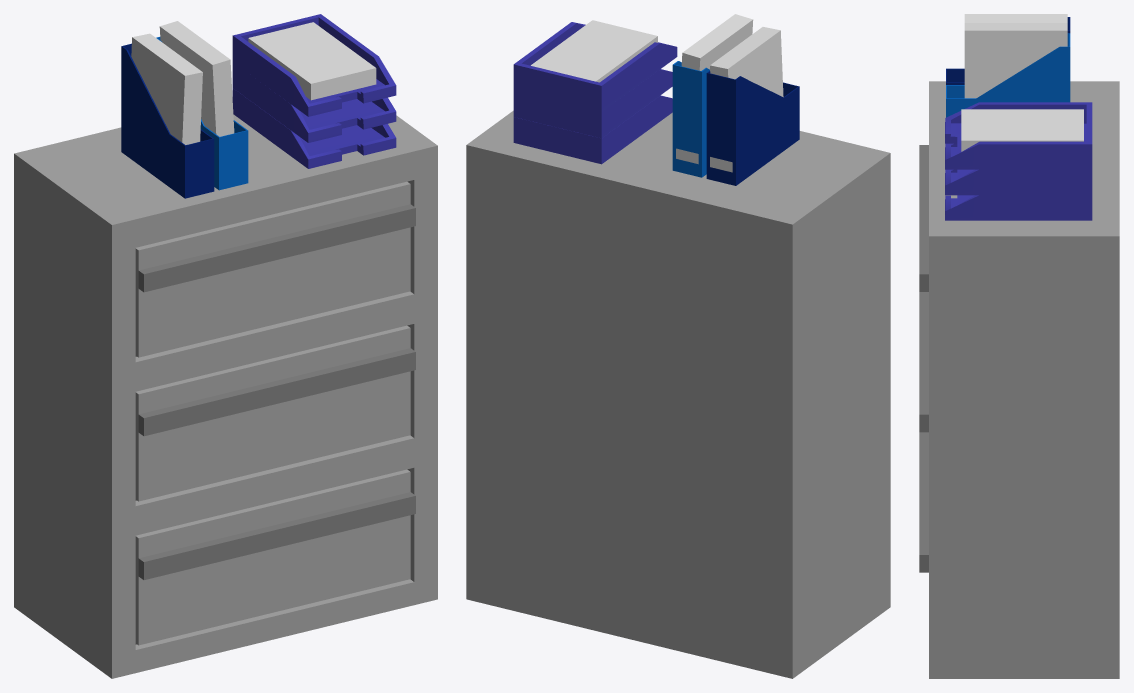
The model's file is etagere 2.fbx.
3 views of the same model, side by side, from view 1: azimuth 30°, elevation 25°; view 2: azimuth 150°, elevation 25°; view 3: azimuth 270°, elevation 25° (orthographic). The views are drawn at different scales.
Parts seen in each view (by area): view 1: etagere_2; view 2: etagere_2; view 3: etagere_2.
Part boxes in pixels (x1,y1,x2,y2): etagere_2: [14, 14, 437, 678]; etagere_2: [466, 14, 890, 678]; etagere_2: [919, 14, 1119, 678].
Bounding box in the file's own units: 1 × 1.68 × 0.5462.
